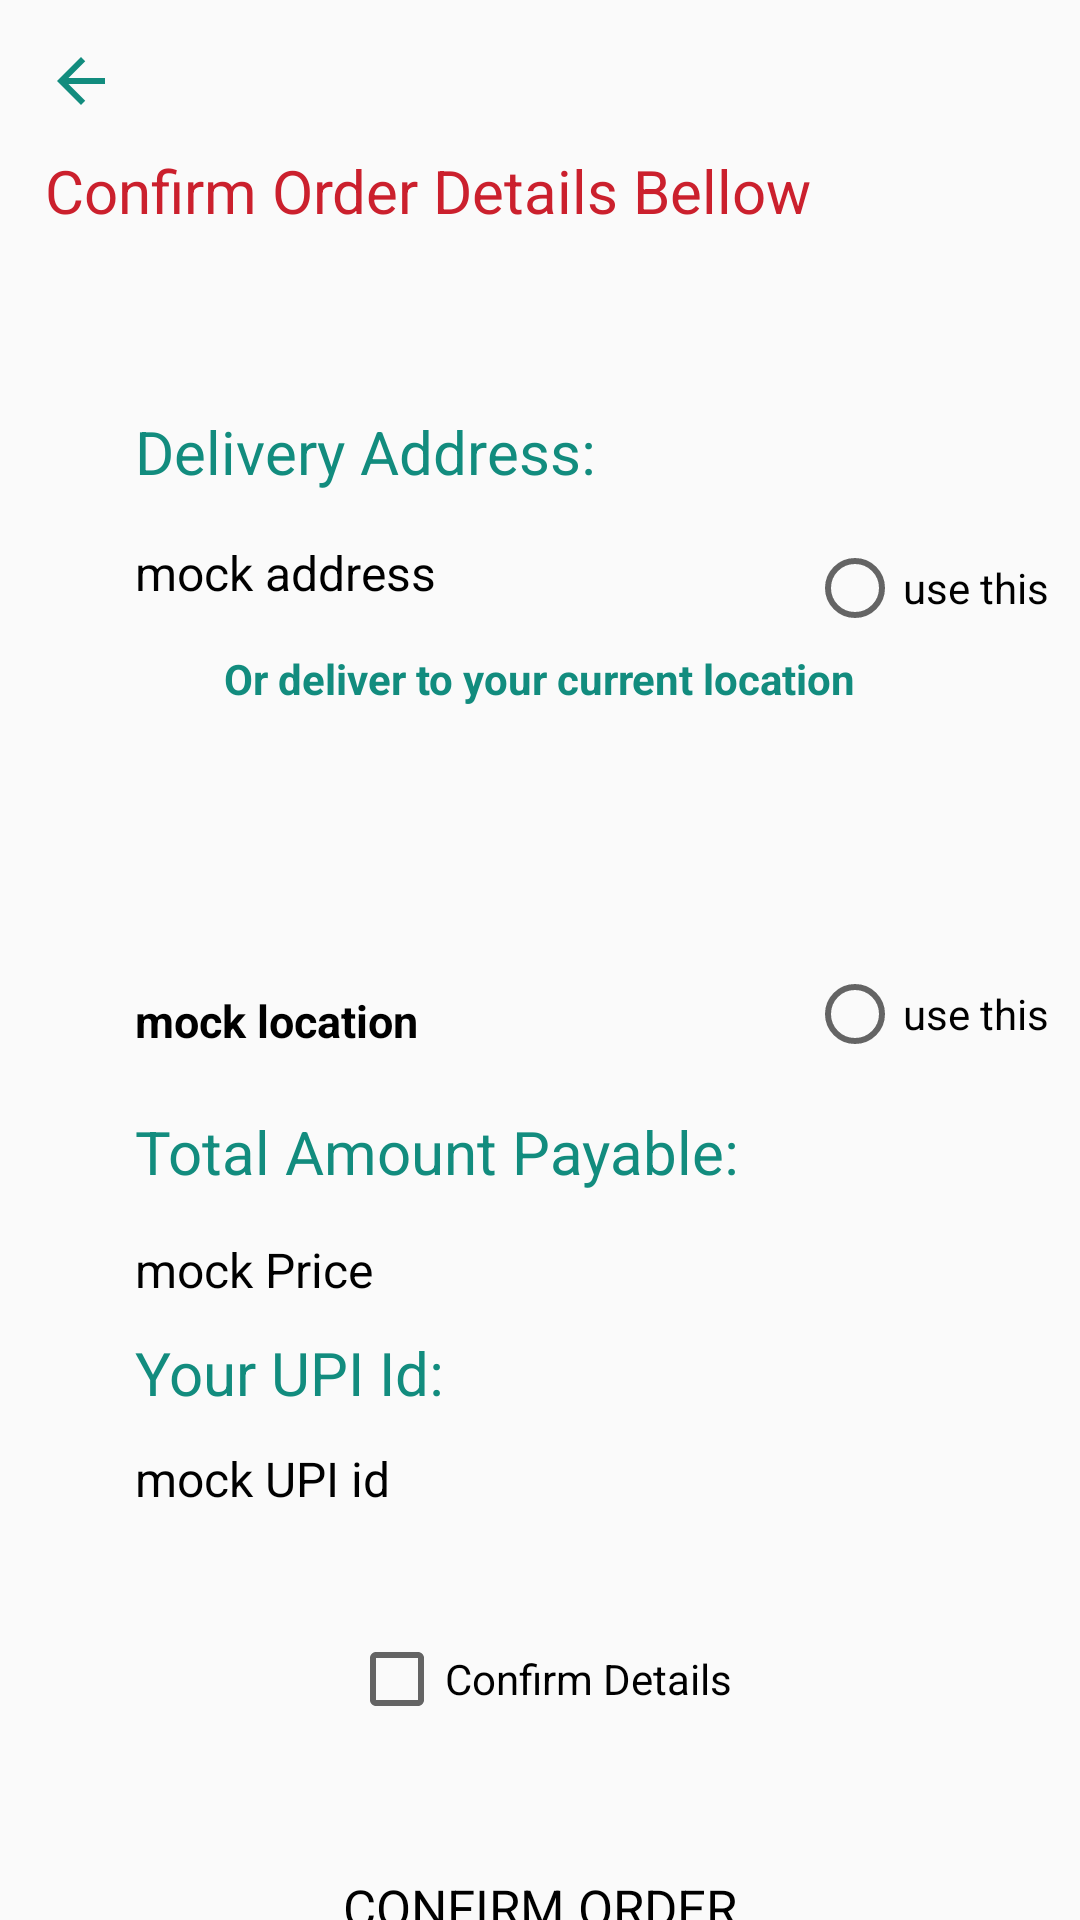

Icon bounding boxes for this 1080px x 1920px phone screenshot, format box(x1, y1, x2, y2):
arrow back: box(57, 57, 105, 105)
